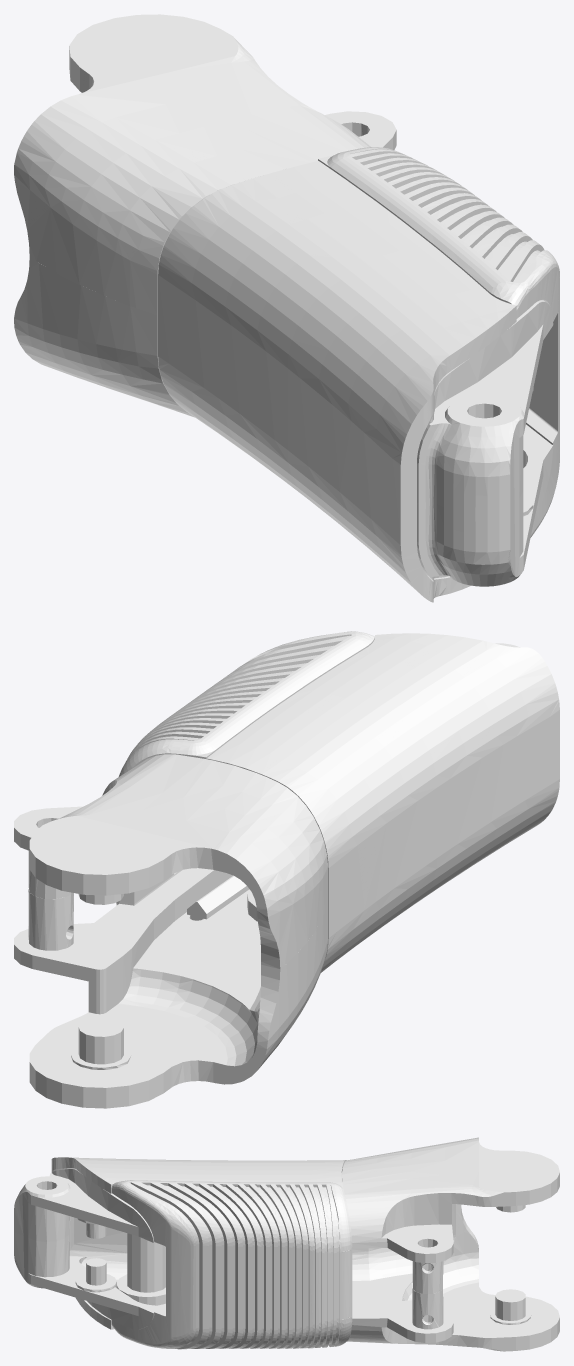
File: lh_middle_proximal_vis.obj
3 views of the same model, one above another, from view 1: azimuth 30°, elevation 25°; view 2: azimuth 150°, elevation 25°; view 3: azimuth 270°, elevation 25° (orthographic). The views are drawn at different scales.
Visible parts, largest first — view 1: lh_middle_proximal; view 2: lh_middle_proximal; view 3: lh_middle_proximal.
Part boxes in pixels (x1,y1,x2,y2): lh_middle_proximal: (14,14,559,602); lh_middle_proximal: (14,631,559,1108); lh_middle_proximal: (14,1137,559,1351).
Size of the model in its own units: 0.0218 by 0.017 by 0.0528.
Materials: 1 (1 with a texture image).
